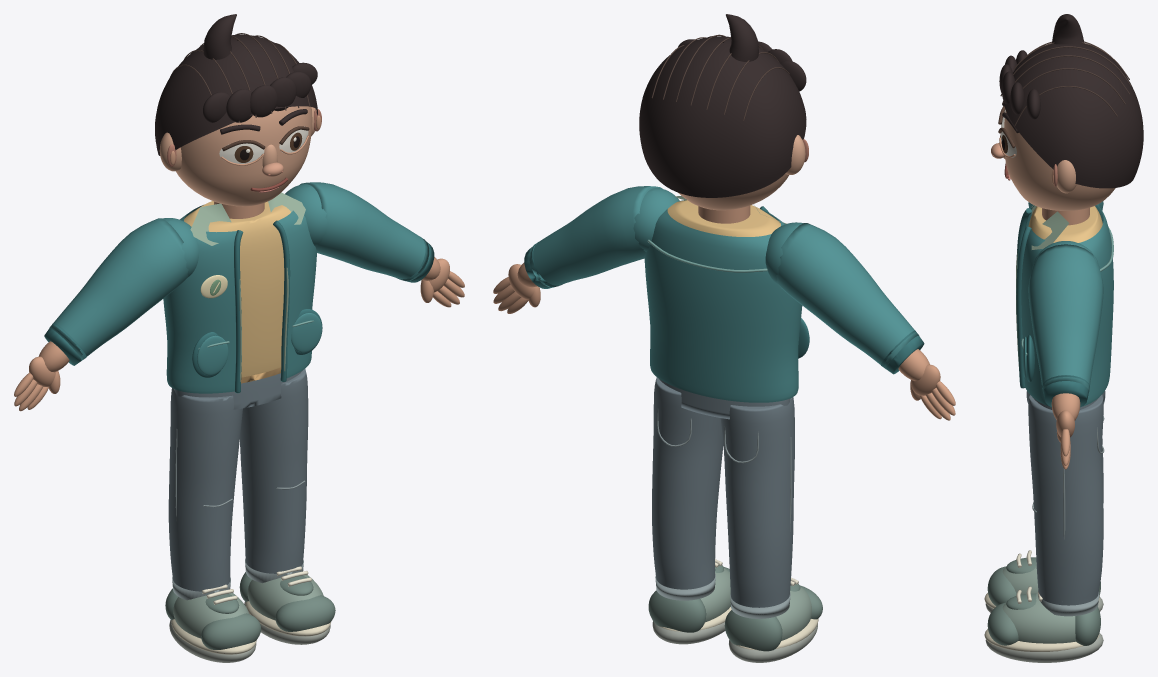
The picture shows the model from 3 angles, left to right: view 1: azimuth 30°, elevation 25°; view 2: azimuth 150°, elevation 25°; view 3: azimuth 270°, elevation 25°; orthographic projection. The views are drawn at different scales.
Parts seen in each view (by area): view 1: Left trouser leg, Right trouser leg, Open rain jacket, Left jacket sleeve, Tousled hair cap, Knit sweater, Head, Right jacket sleeve, Pocket face (×2), Jacket opening (×2), Right toe cap, Left toe cap (+12 smaller); view 2: Open rain jacket, Tousled hair cap, Left trouser leg, Right trouser leg, Left jacket sleeve, Right jacket sleeve, Knit sweater, Left heel cap, Right heel cap, Right shoulder, Trouser waist, Head (+9 smaller); view 3: Tousled hair cap, Right trouser leg, Right jacket sleeve, Open rain jacket, Head, Right shoe upper, Knit sweater, Right sole, Jacket opening (×2), Right toe cap, Right cuff, Stubborn lifted lock (+16 smaller).
Boxes of the visible parts, x1=… form: Left trouser leg: x1=168, y1=388, x2=242, y2=591; Right trouser leg: x1=239, y1=369, x2=308, y2=573; Open rain jacket: x1=163, y1=205, x2=316, y2=393; Left jacket sleeve: x1=49, y1=218, x2=188, y2=360; Tousled hair cap: x1=155, y1=34, x2=317, y2=155; Knit sweater: x1=184, y1=201, x2=290, y2=377; Head: x1=176, y1=106, x2=312, y2=206; Right jacket sleeve: x1=300, y1=182, x2=429, y2=281; Pocket face (×2): x1=197, y1=313, x2=321, y2=375; Jacket opening (×2): x1=234, y1=220, x2=290, y2=393; Right toe cap: x1=275, y1=595, x2=335, y2=631; Left toe cap: x1=201, y1=613, x2=261, y2=649; Open rain jacket: x1=644, y1=199, x2=802, y2=402; Tousled hair cap: x1=639, y1=36, x2=806, y2=197; Left trouser leg: x1=720, y1=397, x2=794, y2=607; Right trouser leg: x1=652, y1=377, x2=723, y2=589; Left jacket sleeve: x1=776, y1=223, x2=918, y2=368; Right jacket sleeve: x1=529, y1=186, x2=662, y2=287; Knit sweater: x1=667, y1=200, x2=780, y2=236; Left heel cap: x1=724, y1=610, x2=782, y2=651; Right heel cap: x1=648, y1=590, x2=706, y2=632; Right shoulder: x1=633, y1=188, x2=679, y2=251; Trouser waist: x1=659, y1=379, x2=790, y2=419; Head: x1=678, y1=173, x2=788, y2=210; Tousled hair cap: x1=1003, y1=44, x2=1143, y2=188; Right trouser leg: x1=1028, y1=395, x2=1103, y2=605; Right jacket sleeve: x1=1028, y1=244, x2=1103, y2=392; Open rain jacket: x1=1021, y1=205, x2=1113, y2=406; Head: x1=1004, y1=111, x2=1115, y2=210; Right shoe upper: x1=1002, y1=593, x2=1075, y2=643; Knit sweater: x1=1028, y1=206, x2=1102, y2=242; Right sole: x1=985, y1=633, x2=1103, y2=662; Jacket opening (×2): x1=1016, y1=208, x2=1031, y2=388; Right toe cap: x1=987, y1=602, x2=1018, y2=645; Right cuff: x1=1042, y1=375, x2=1089, y2=407; Stubborn lifted lock: x1=1052, y1=14, x2=1084, y2=48.
Size of the model in its own units: 3.03 by 3.99 by 0.9305.
